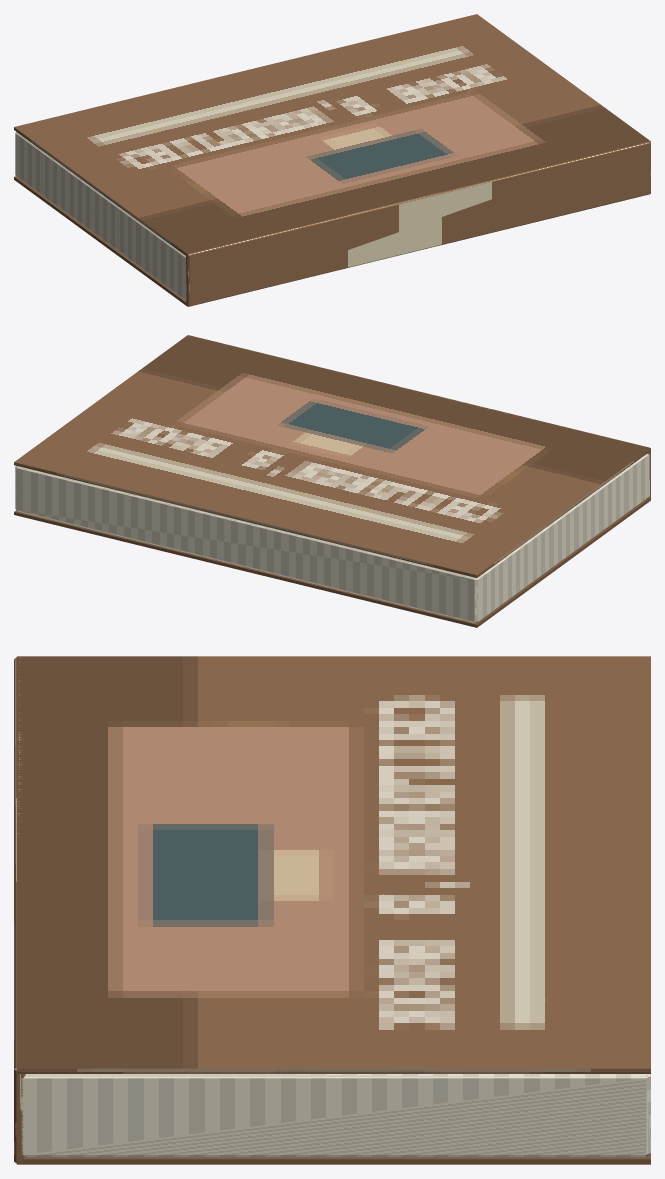
File: child_book.glb
3 renders of one model, top to bottom at view 1: azimuth 30°, elevation 25°; view 2: azimuth 150°, elevation 25°; view 3: azimuth 270°, elevation 25°, orthographic. The views are drawn at different scales.
Parts seen in each view (by area): view 1: block_front, block_spine, block_pages, block_back; view 2: block_front, block_pages, block_back, block_spine; view 3: block_front, block_pages, block_back, block_spine.
Part boxes in pixels (x1=…): block_front: x1=14, y1=14, x2=650, y2=256; block_spine: x1=186, y1=141, x2=650, y2=306; block_pages: x1=15, y1=132, x2=186, y2=299; block_back: x1=14, y1=176, x2=650, y2=306; block_front: x1=14, y1=335, x2=650, y2=577; block_pages: x1=15, y1=453, x2=649, y2=623; block_back: x1=14, y1=498, x2=650, y2=627; block_spine: x1=188, y1=335, x2=650, y2=499; block_front: x1=17, y1=656, x2=650, y2=1073; block_pages: x1=21, y1=1074, x2=650, y2=1157; block_back: x1=17, y1=1153, x2=650, y2=1164; block_spine: x1=14, y1=657, x2=25, y2=1163.
Size of the model in its own units: 0.2 by 0.0217 by 0.1306.
1 material, 1 textured.
